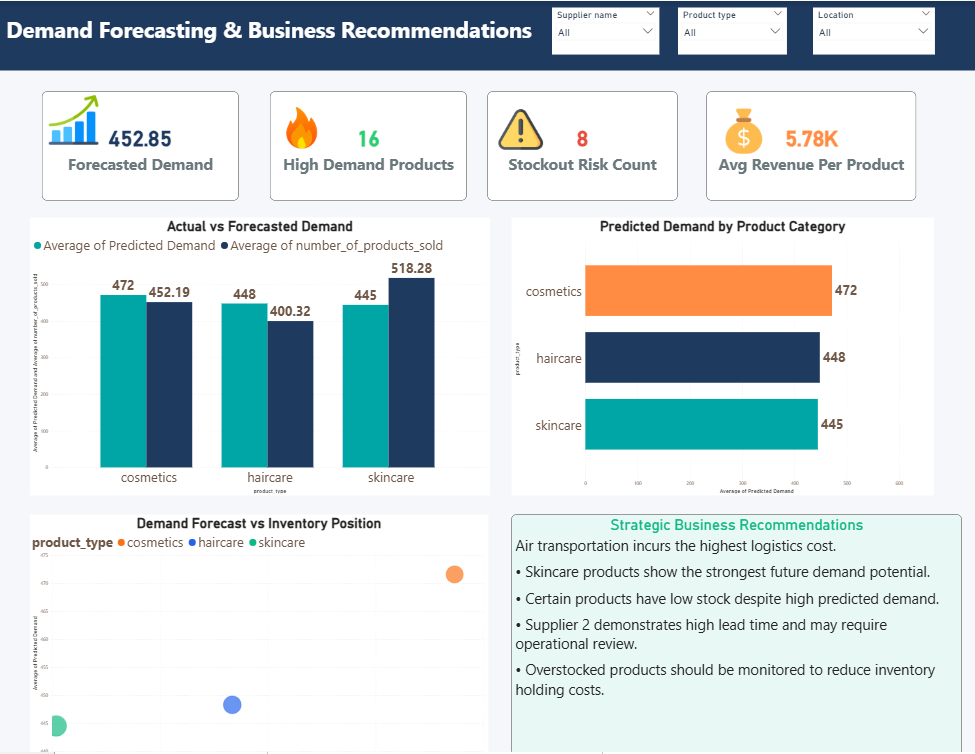

The page's visual inventory and layout, read from the dashboard file:
{"tool":"powerbi","page":{"name":"Demand Forecasting & Business Recommendations","canvas":[2500,2000],"ordinal":3},"visuals":[{"type":"card","fields":{"Values":["forecasted_supply_chain.Avg Predicted Demand"]},"box":[108.3,266.7,504.2,279.2],"z":0},{"type":"card","fields":{"Values":["forecasted_supply_chain.High Demand Products"]},"box":[691.7,266.7,504.2,279.2],"z":1000},{"type":"card","fields":{"Values":["supply_chain_data (1).Stockout Risk Count"]},"box":[1250,266.7,487.5,279.2],"z":2000},{"type":"card","fields":{"Values":["forecasted_supply_chain.Avg Revenue Per Product"]},"box":[1812.5,266.7,537.5,279.2],"z":3000},{"type":"clusteredColumnChart","title":"Actual vs Forecasted Demand","fields":{"Category":["forecasted_supply_chain.product_type"],"Y":["Avg(forecasted_supply_chain.Predicted Demand)","Avg(forecasted_supply_chain.number_of_products_sold)"]},"box":[75,587.5,1179.2,712.5],"z":4000},{"type":"barChart","title":"Predicted Demand by Product Category","fields":{"Category":["forecasted_supply_chain.product_type"],"Y":["Avg(forecasted_supply_chain.Predicted Demand)"]},"box":[1312.5,587.5,1083.3,712.5],"z":5000},{"type":"scatterChart","title":"Demand Forecast vs Inventory Position","fields":{"X":["Avg(forecasted_supply_chain.stock_levels)"],"Y":["Avg(forecasted_supply_chain.Predicted Demand)"],"Size":["Sum(forecasted_supply_chain.revenue_generated)"],"Series":["forecasted_supply_chain.product_type"]},"box":[75,1350,1175,650],"z":6000},{"type":"textbox","title":"Strategic Business Recommendations","box":[1312.5,1350,1154.2,616.7],"z":7000},{"type":"shape","box":[0,12.5,2500,200],"z":8000},{"type":"textbox","box":[0,8.3,1379.2,200],"z":9000},{"type":"slicer","fields":{"Values":["supply_chain_data (1).Supplier name"]},"box":[1416.7,50,275,120.8],"z":10000},{"type":"slicer","fields":{"Values":["supply_chain_data (1).Product type"]},"box":[1737.5,50,279.2,120.8],"z":11000},{"type":"slicer","fields":{"Values":["supply_chain_data (1).Location"]},"box":[2083.3,50,312.5,120.8],"z":12000},{"type":"image","box":[108.3,270.8,162.5,137.5],"z":13000},{"type":"image","box":[691.7,300,162.5,116.7],"z":14000},{"type":"image","box":[1254.2,300,162.5,125],"z":15000},{"type":"image","box":[1812.5,300,191.7,133.3],"z":16000}]}

Visuals, with their boxes on the page's 2500x2000 design canvas (x1, y1, x2, y2). These are canvas units, not pixel positions in the 975x754 screenshot, which may show the page scaled, cropped or inside an application window:
card - forecasted_supply_chain.Avg Predicted Demand: 108/267/612/546
card - forecasted_supply_chain.High Demand Products: 692/267/1196/546
card - supply_chain_data (1).Stockout Risk Count: 1250/267/1738/546
card - forecasted_supply_chain.Avg Revenue Per Product: 1812/267/2350/546
"Actual vs Forecasted Demand" clusteredColumnChart: 75/588/1254/1300
"Predicted Demand by Product Category" barChart: 1312/588/2396/1300
"Demand Forecast vs Inventory Position" scatterChart: 75/1350/1250/2000
"Strategic Business Recommendations" textbox: 1312/1350/2467/1967
shape: 0/12/2500/212
textbox: 0/8/1379/208
slicer - supply_chain_data (1).Supplier name: 1417/50/1692/171
slicer - supply_chain_data (1).Product type: 1738/50/2017/171
slicer - supply_chain_data (1).Location: 2083/50/2396/171
image: 108/271/271/408
image: 692/300/854/417
image: 1254/300/1417/425
image: 1812/300/2004/433
